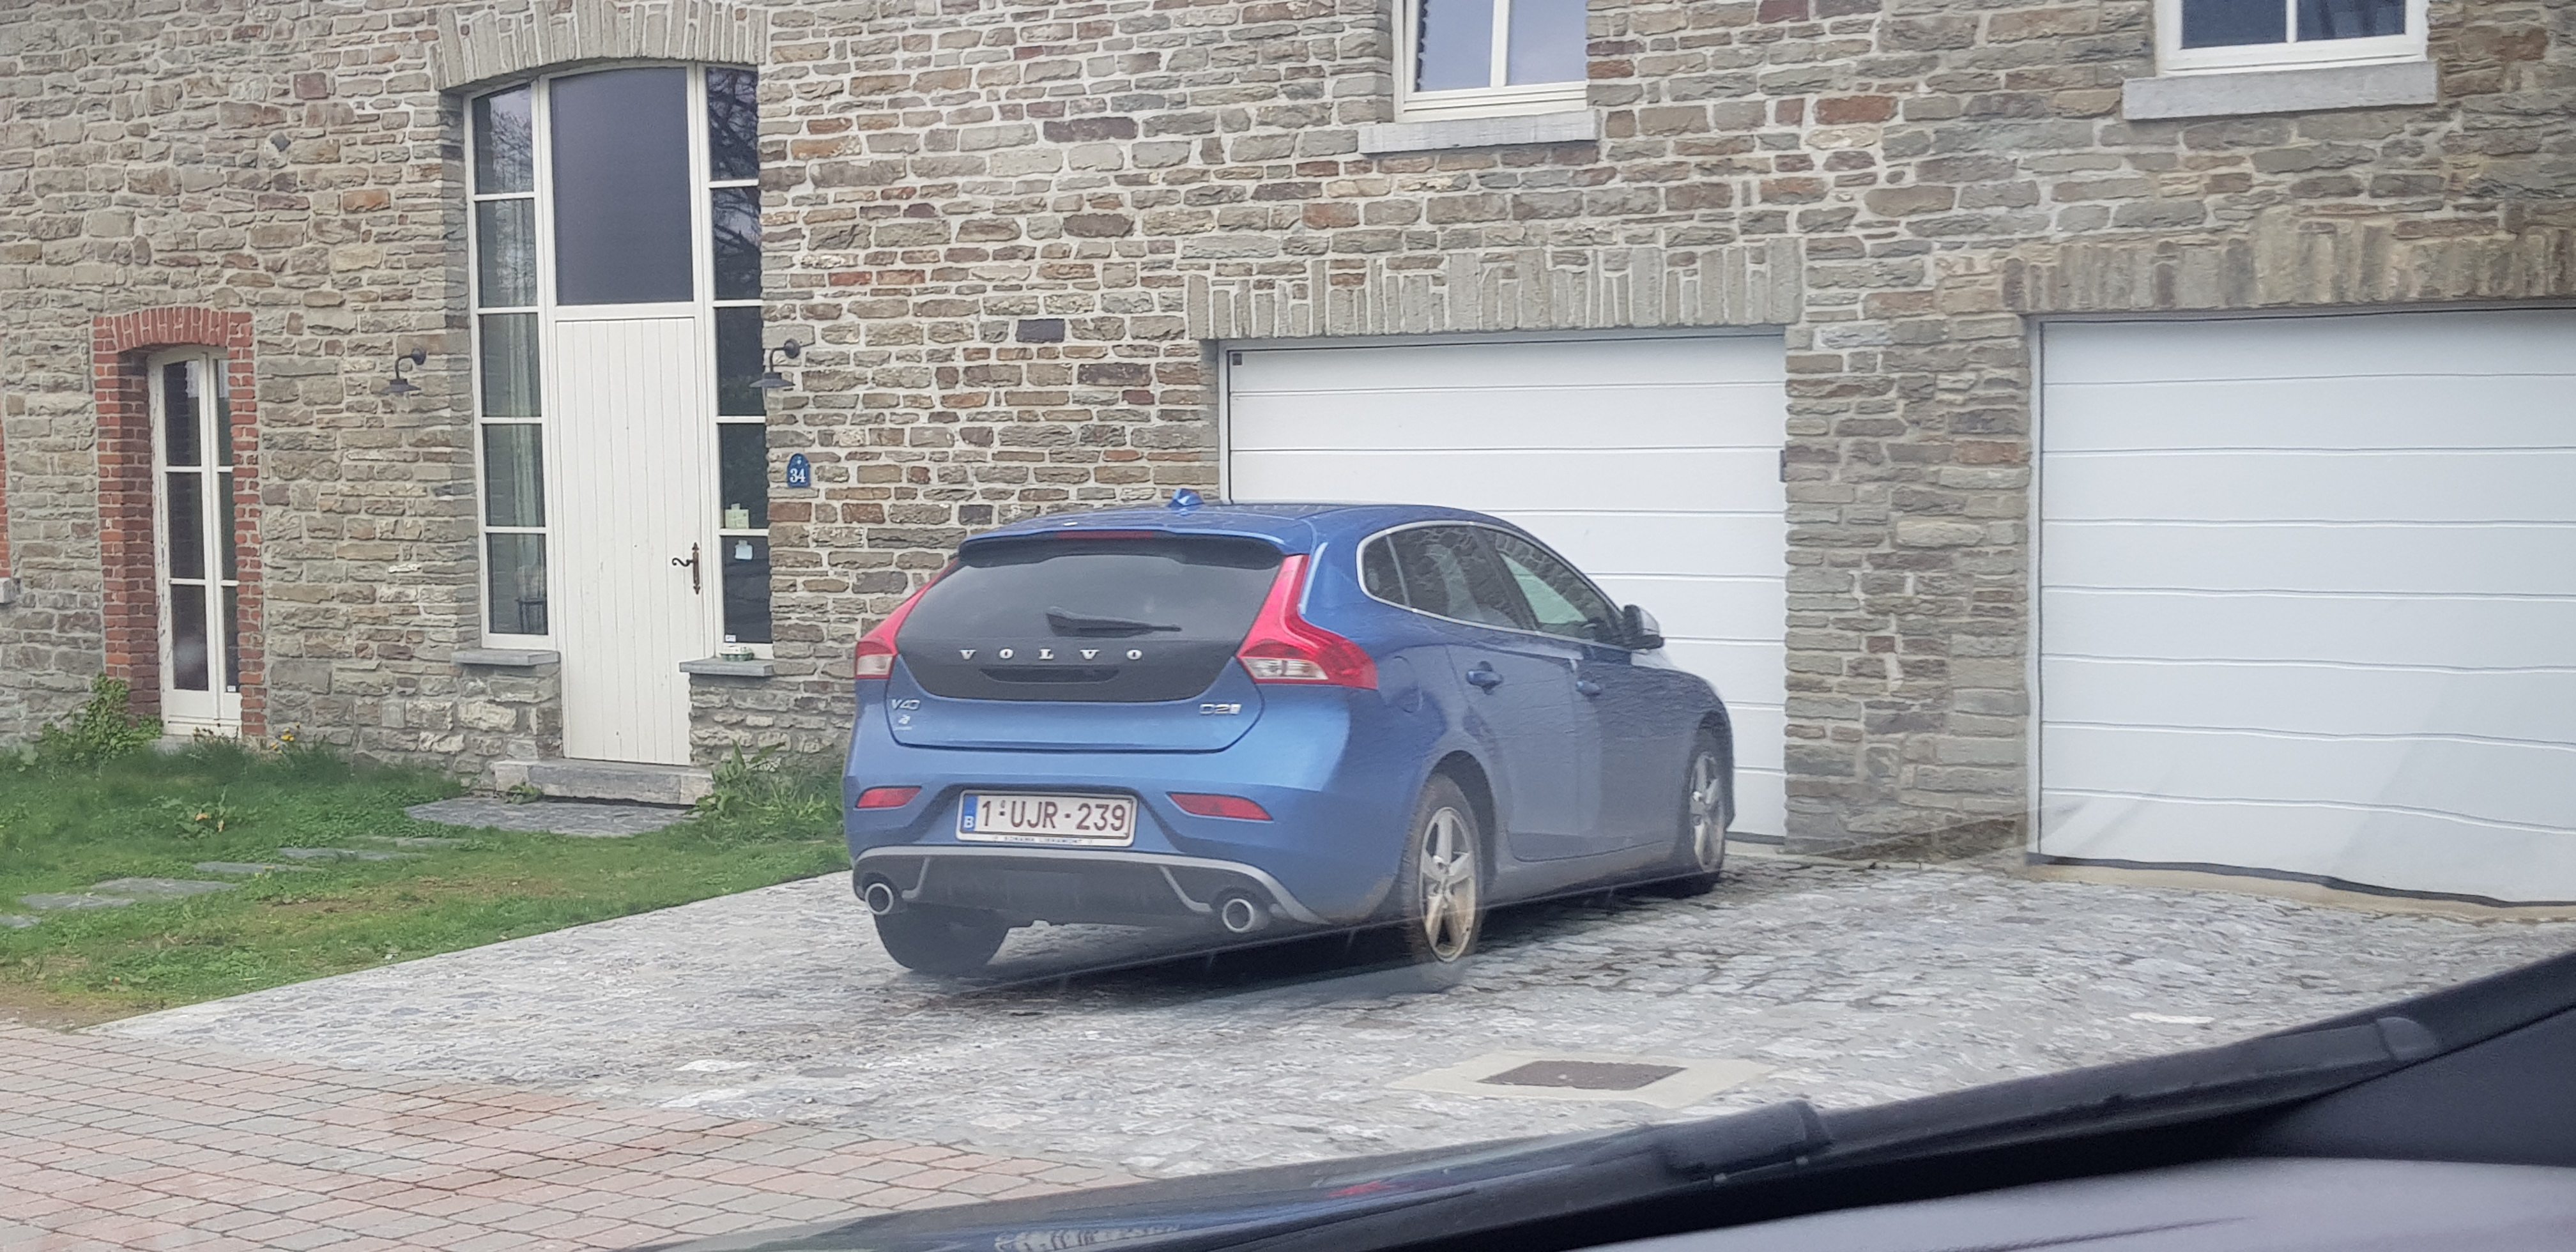licenceplate: (958, 790, 1135, 841)
